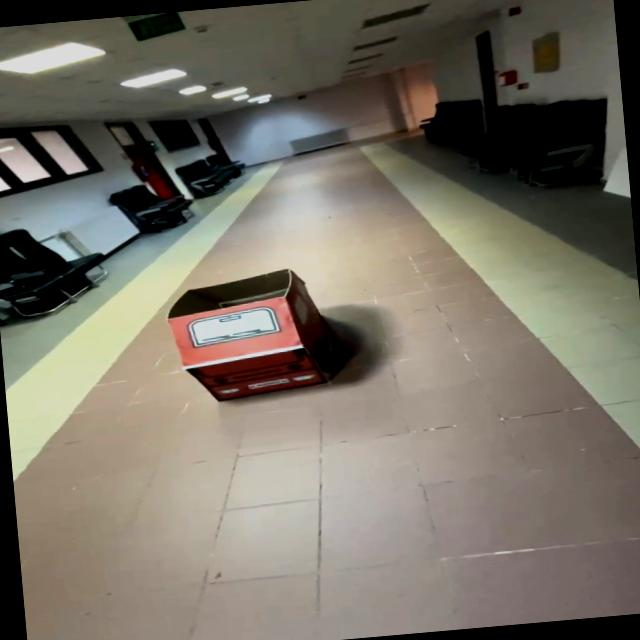red_car: (123, 253, 379, 414)
